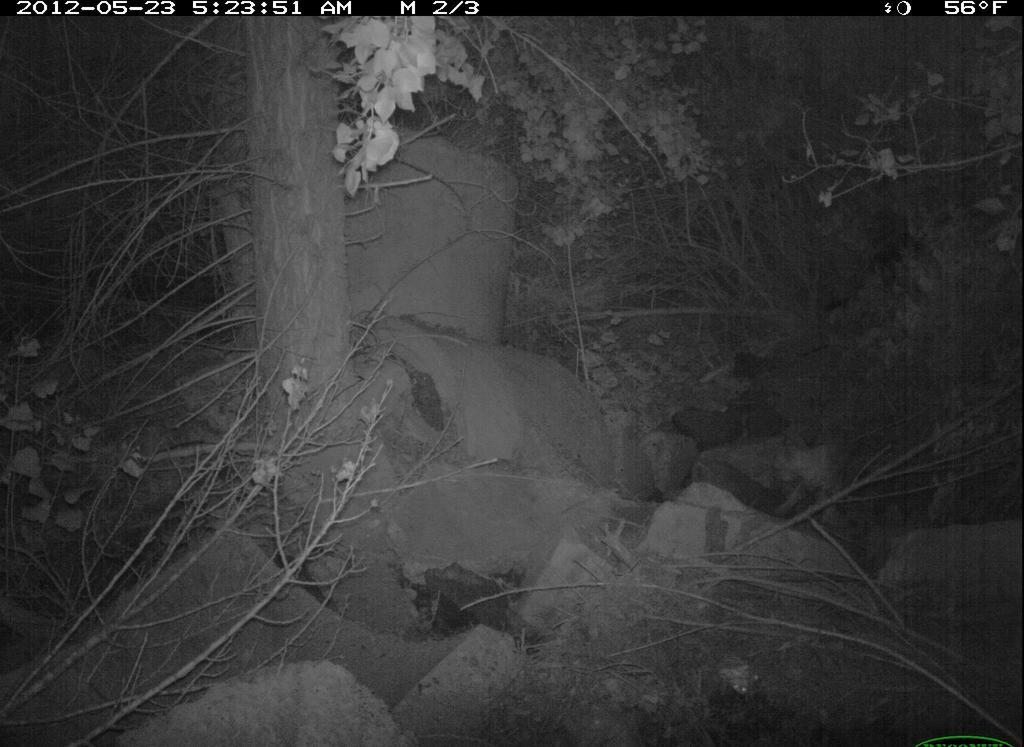bobcat: (762, 419, 870, 532)
